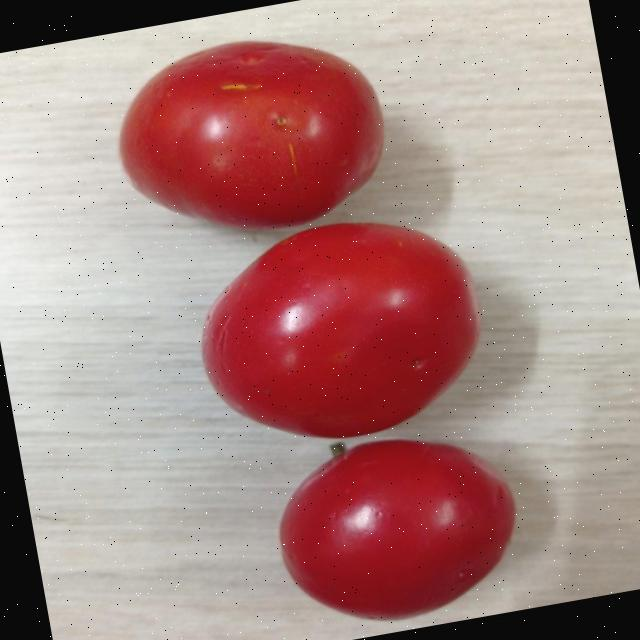Ripe: (180, 194, 502, 466), (96, 10, 403, 259), (255, 418, 542, 640)
